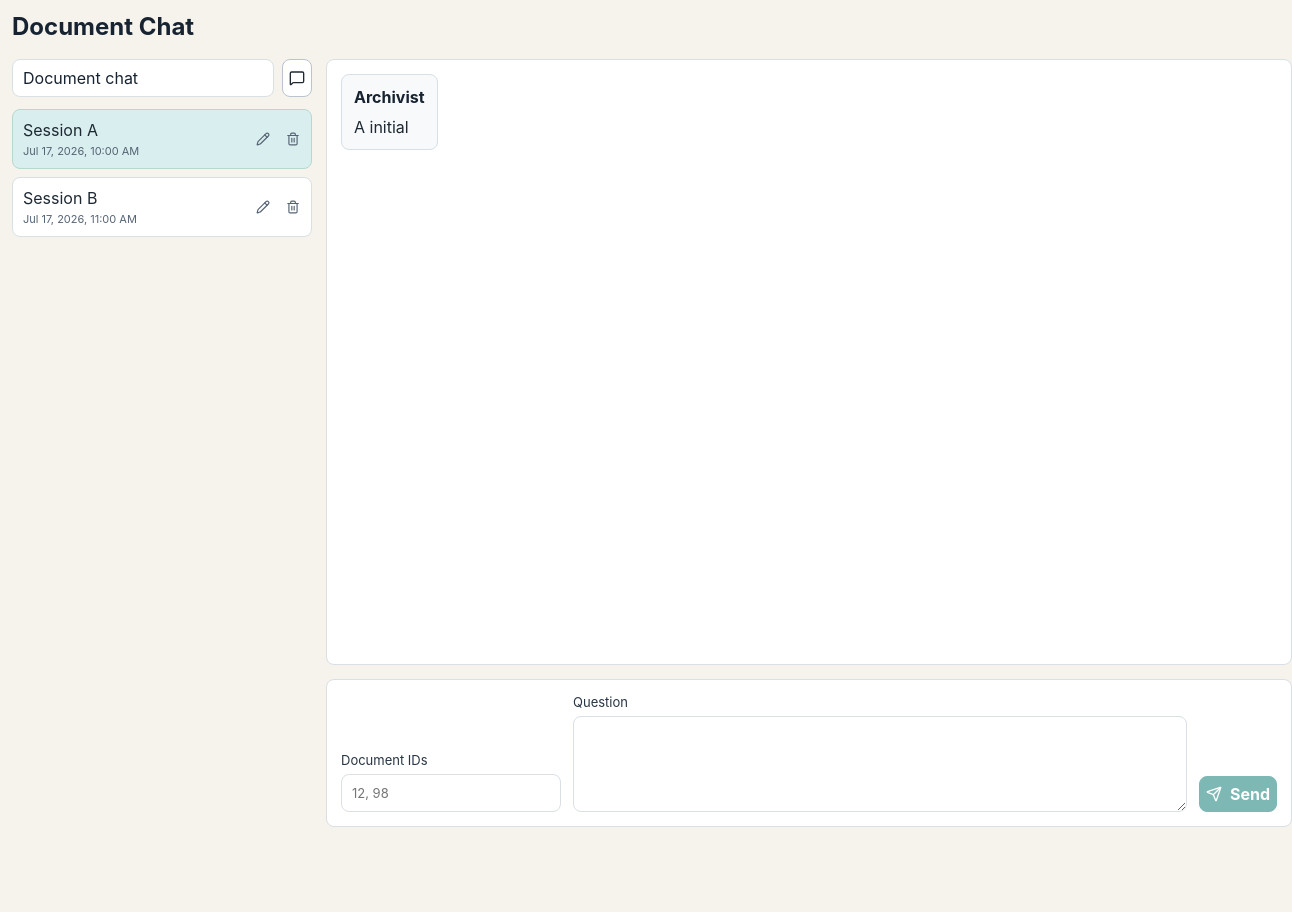
<DocumentChat> request ownership › keeps B visible when the post-send A refresh resolves late
Expected: the button titled "Session A" is shown, [13, 110, 249, 168]
Expected: the text "A initial" is shown, [354, 117, 409, 137]
In the text box labelled "Question": (880, 764) [573, 716, 1187, 812], type "Slow question for session A"
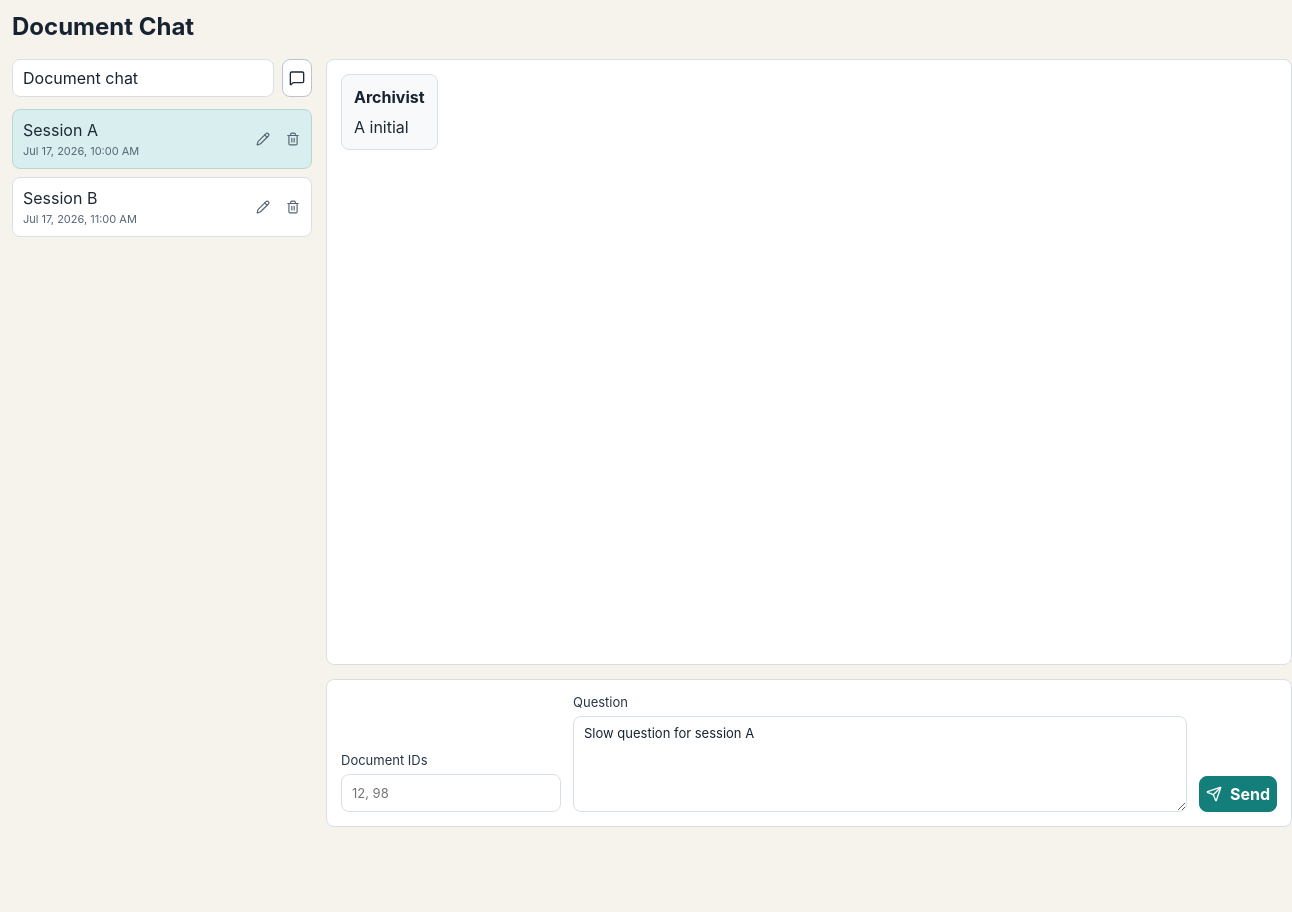
Click the button "Send": (1238, 794) [1199, 776, 1277, 812]
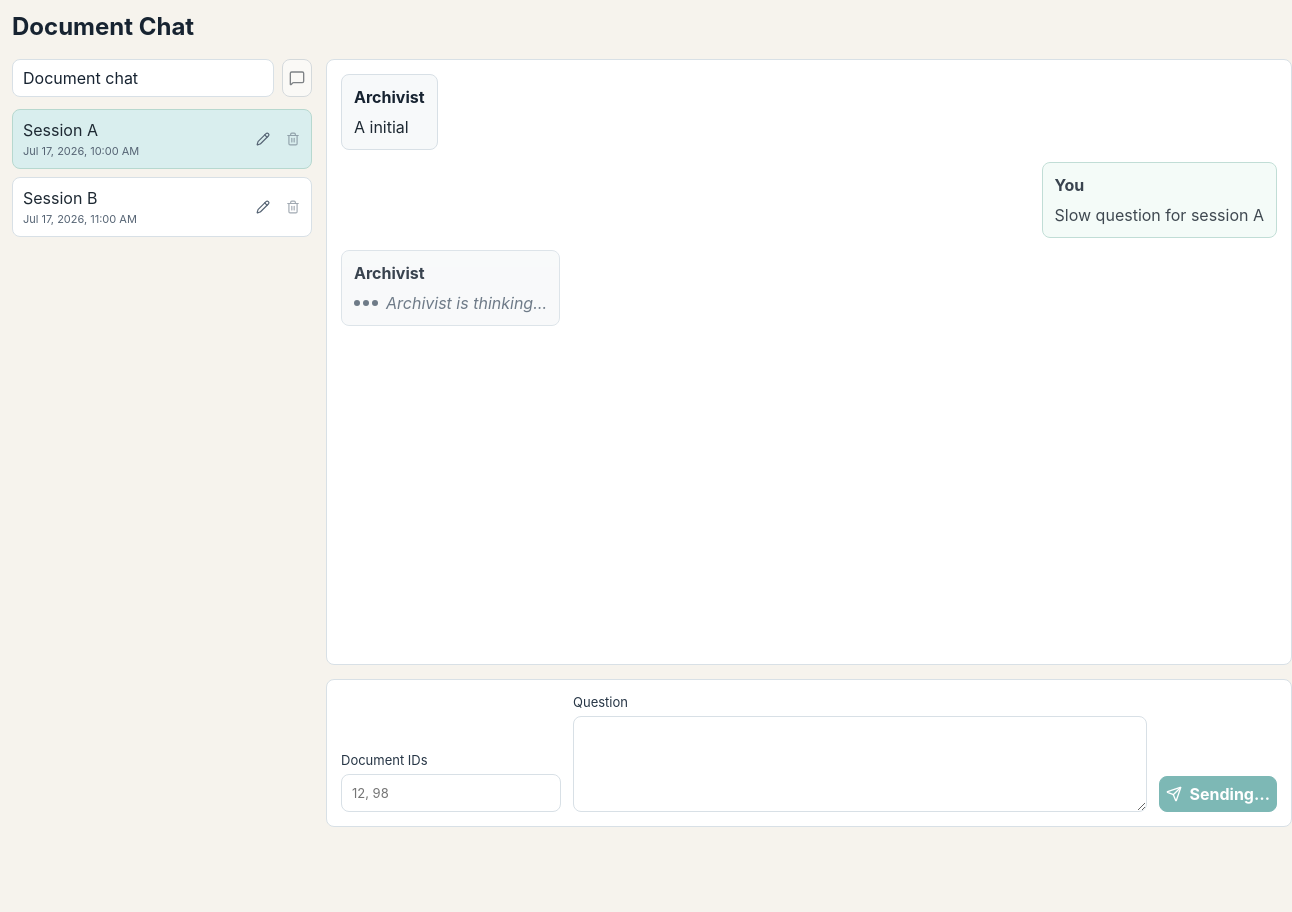
Click the button titled "Session B": (131, 207) [13, 178, 249, 236]
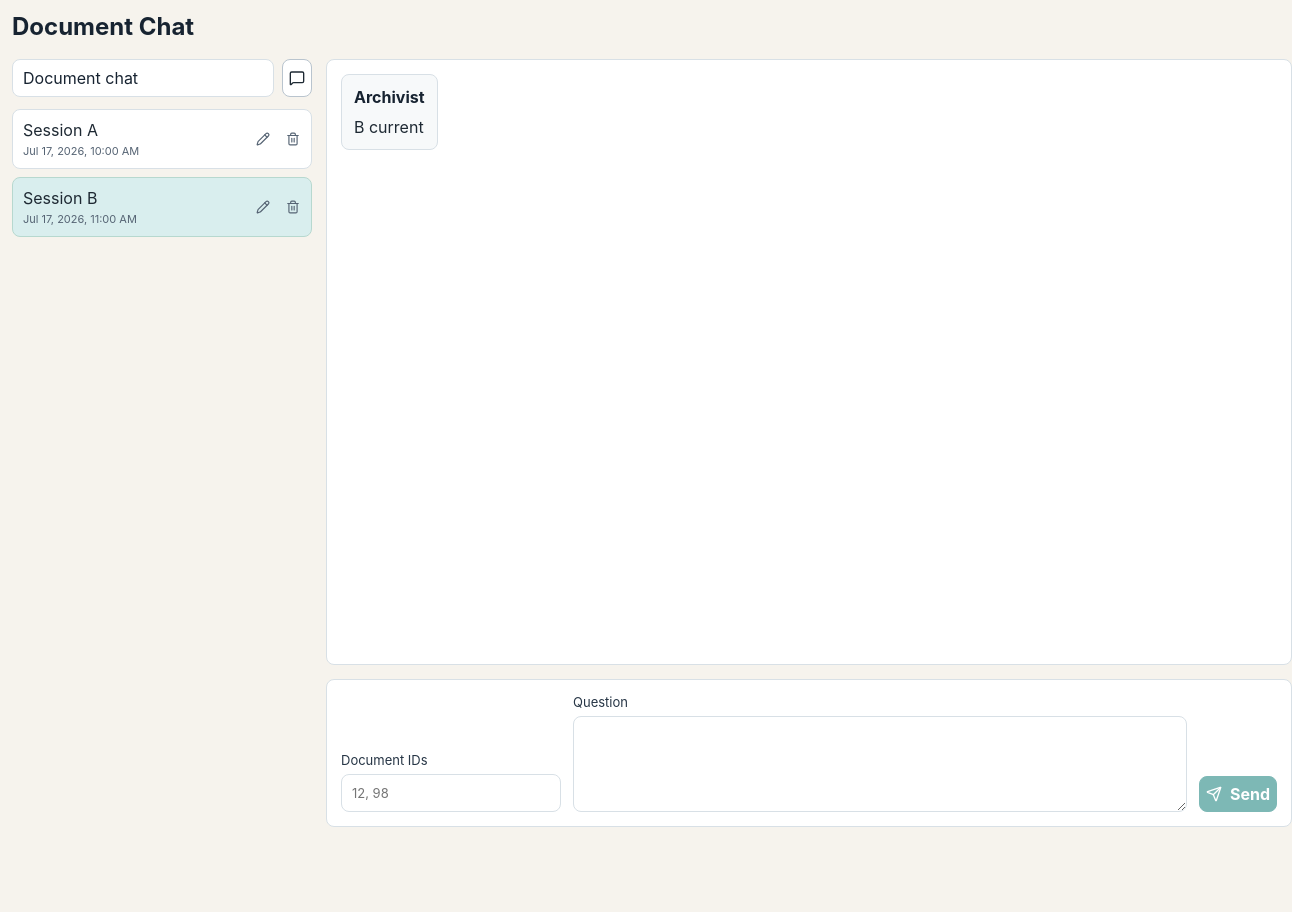
Expected: the text "B current" is shown, [354, 117, 424, 137]
